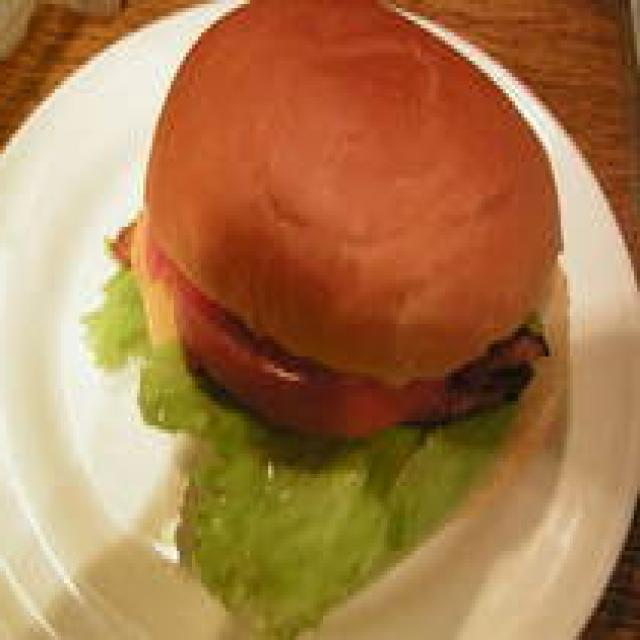Hamburger: (118, 0, 583, 612)
